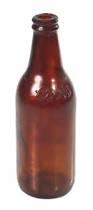Glass bottle: (0, 1, 93, 210)
